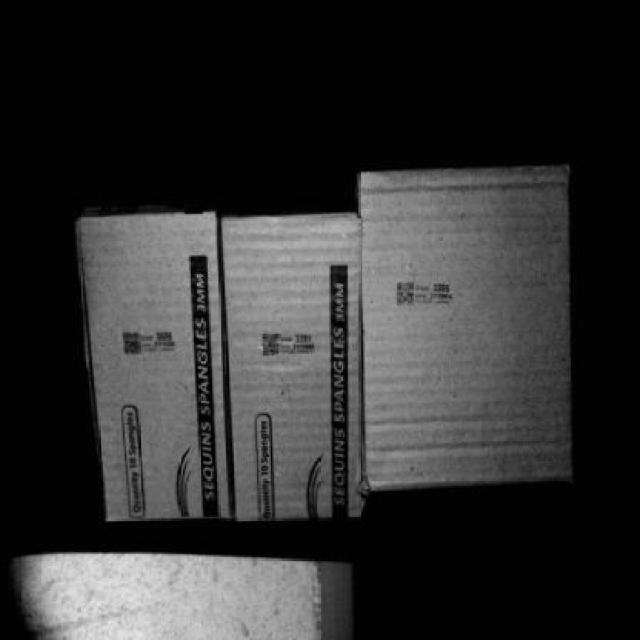cardboxes: (363, 164, 574, 482), (79, 217, 232, 526), (226, 216, 368, 522)
